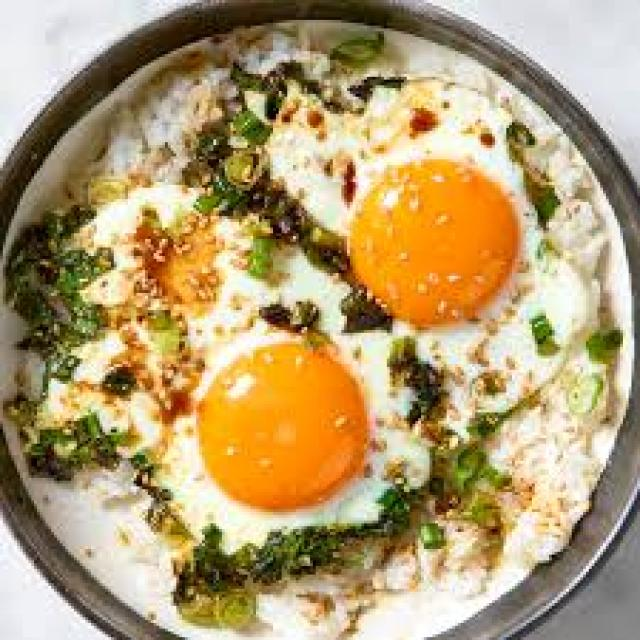Egg: (0, 20, 634, 640)
